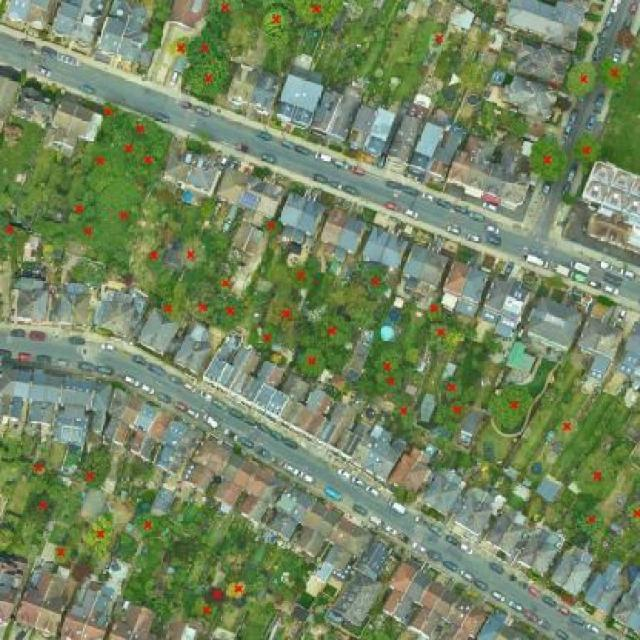tree: (574, 451, 618, 502), (493, 383, 536, 429), (529, 136, 569, 184), (82, 513, 118, 562), (187, 58, 230, 98), (289, 0, 346, 28), (186, 275, 220, 321), (313, 314, 352, 348), (565, 59, 598, 99), (79, 447, 112, 487), (132, 142, 163, 183), (22, 492, 59, 525), (189, 30, 226, 61), (219, 543, 253, 575), (87, 156, 116, 193), (65, 191, 99, 222), (574, 506, 606, 537), (261, 3, 292, 34), (295, 346, 326, 377), (270, 300, 304, 328), (601, 58, 628, 93), (181, 235, 207, 271), (373, 368, 409, 394), (131, 511, 165, 538), (433, 400, 473, 422), (575, 131, 602, 163), (391, 400, 418, 431), (142, 244, 168, 276), (146, 572, 169, 608), (189, 597, 223, 621), (217, 297, 245, 326), (222, 579, 255, 603), (481, 328, 505, 360), (129, 114, 162, 137), (48, 543, 81, 566), (25, 459, 53, 485), (0, 122, 26, 150), (0, 209, 18, 249), (289, 263, 316, 289), (145, 18, 165, 53), (204, 14, 233, 38), (377, 348, 406, 372), (155, 299, 184, 322), (440, 377, 469, 400), (152, 272, 175, 300), (553, 415, 581, 438), (207, 0, 241, 18), (255, 324, 281, 347), (261, 214, 285, 238), (342, 23, 370, 43), (202, 585, 230, 605), (198, 198, 221, 222), (268, 262, 291, 286), (429, 323, 453, 346), (73, 219, 102, 238), (624, 497, 640, 531), (168, 34, 191, 57), (427, 31, 450, 54), (119, 204, 142, 227), (365, 269, 387, 293), (117, 138, 141, 159), (47, 157, 71, 178), (472, 107, 496, 128), (210, 232, 232, 254), (511, 118, 534, 139), (363, 623, 391, 640), (149, 2, 174, 21), (0, 476, 15, 507), (161, 212, 181, 235), (181, 136, 207, 153), (395, 48, 417, 68), (173, 541, 193, 562), (249, 289, 273, 306), (239, 623, 263, 640), (426, 299, 446, 319), (68, 264, 87, 285), (341, 56, 362, 75), (537, 393, 555, 415), (108, 125, 129, 143), (152, 137, 170, 158), (553, 399, 575, 415), (186, 519, 202, 541), (391, 484, 407, 505), (302, 258, 324, 273), (404, 347, 422, 365), (437, 436, 454, 455), (113, 249, 132, 266), (101, 97, 114, 121), (218, 274, 235, 292), (82, 244, 100, 261), (0, 437, 11, 460), (388, 76, 402, 93), (556, 369, 570, 383), (373, 66, 385, 80)
